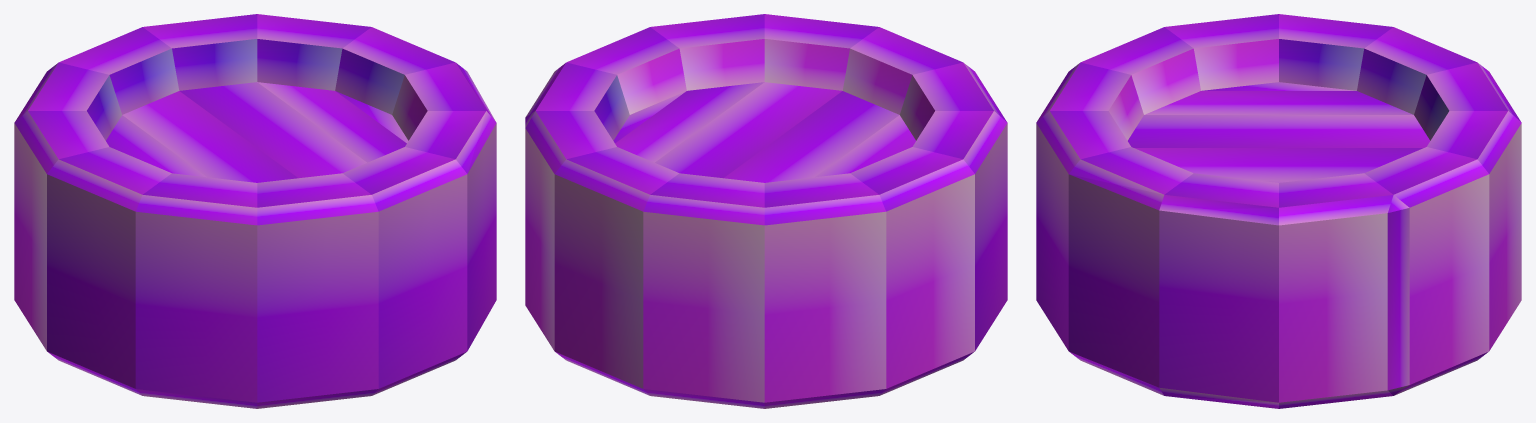
File: coin02.fbx
3 renders of one model, left to right at view 1: azimuth 30°, elevation 25°; view 2: azimuth 150°, elevation 25°; view 3: azimuth 270°, elevation 25°, orthographic.
Visible parts, largest first — view 1: coin02; view 2: coin02; view 3: coin02.
Boxes of the visible parts, x1,y1,x2,y2 form: coin02: (14, 14, 496, 408); coin02: (525, 14, 1007, 408); coin02: (1036, 14, 1521, 408).
Bounding box in the file's own units: 91.24 × 41.71 × 91.24.
